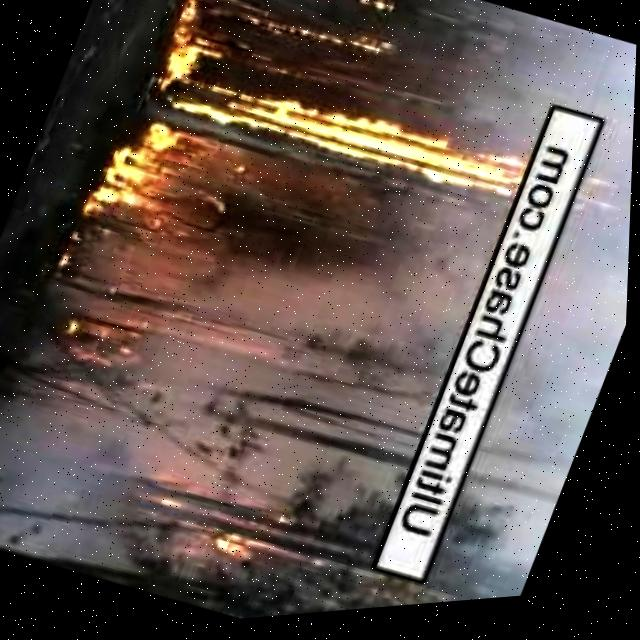Fire: (138, 22, 539, 247), (203, 472, 380, 621), (76, 104, 228, 259), (31, 272, 172, 399), (177, 0, 407, 76)
Smoke: (106, 107, 523, 553), (446, 55, 637, 584), (0, 334, 238, 612)
